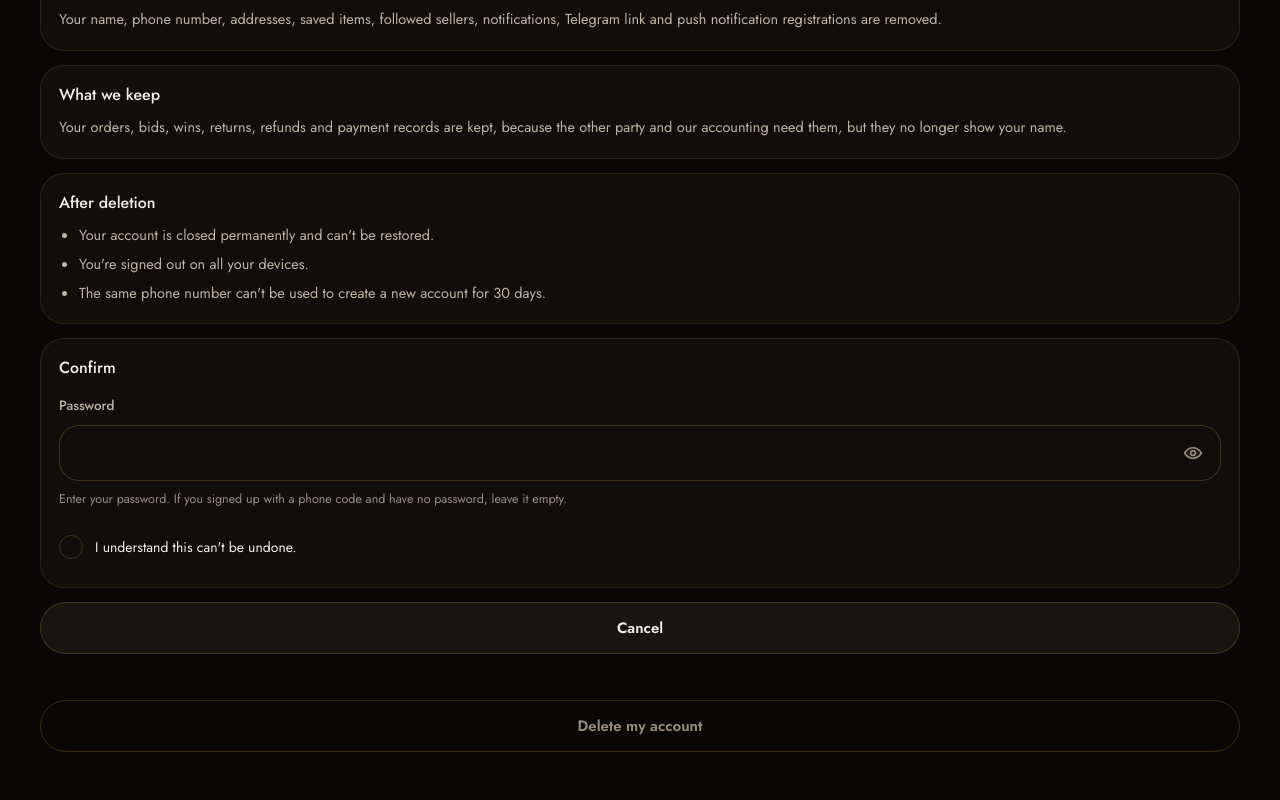
it: Delete account › lists every reason the deletion is blocked, linking to the screens that exist
This screenshot has width=1280, height=800.
(page scrolled)
Expected: the button "Delete my account" is shown, [40, 700, 1240, 752]
Type "secret-pass" into the password field labelled "Password" at (640, 453), box [59, 425, 1221, 481]
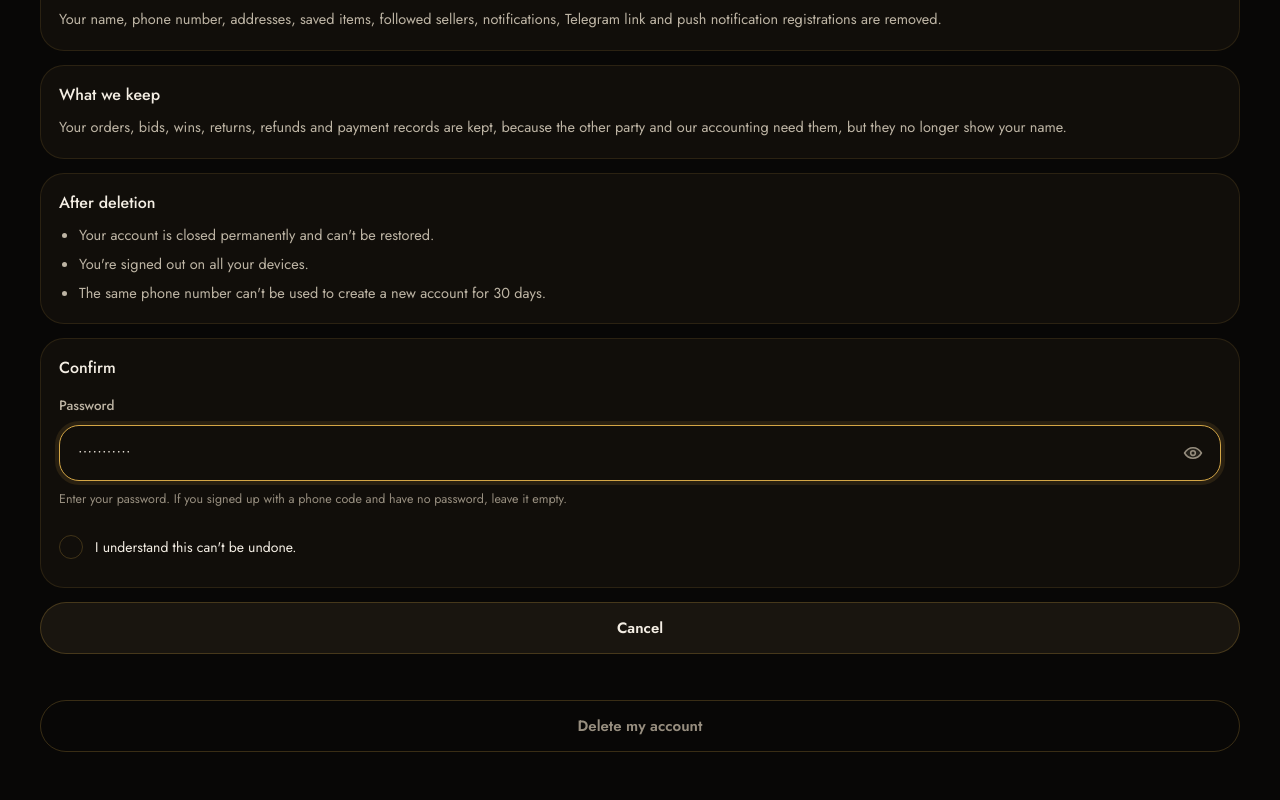
Click the checkbox labelled "I understand this can't be undone." at (178, 547), box [59, 535, 296, 559]
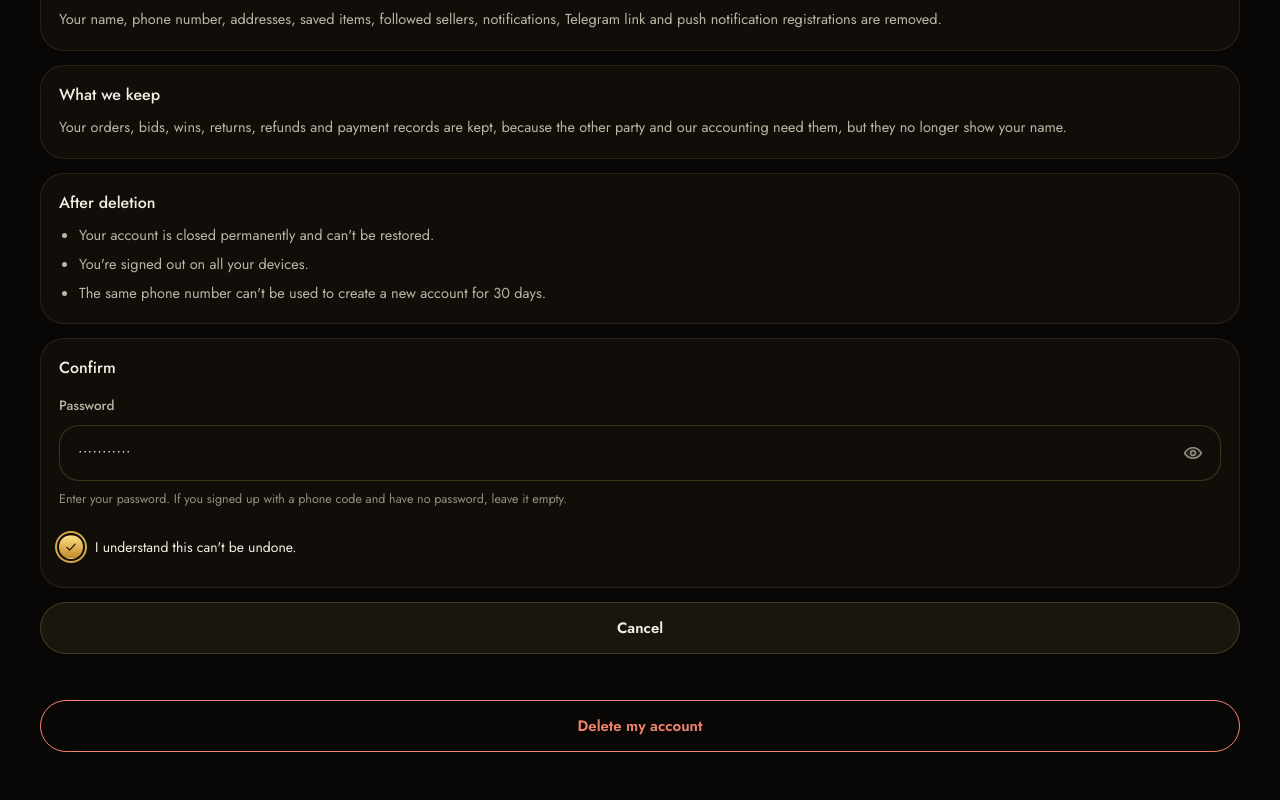
Click the button "Delete my account" at (640, 726), box [40, 700, 1240, 752]
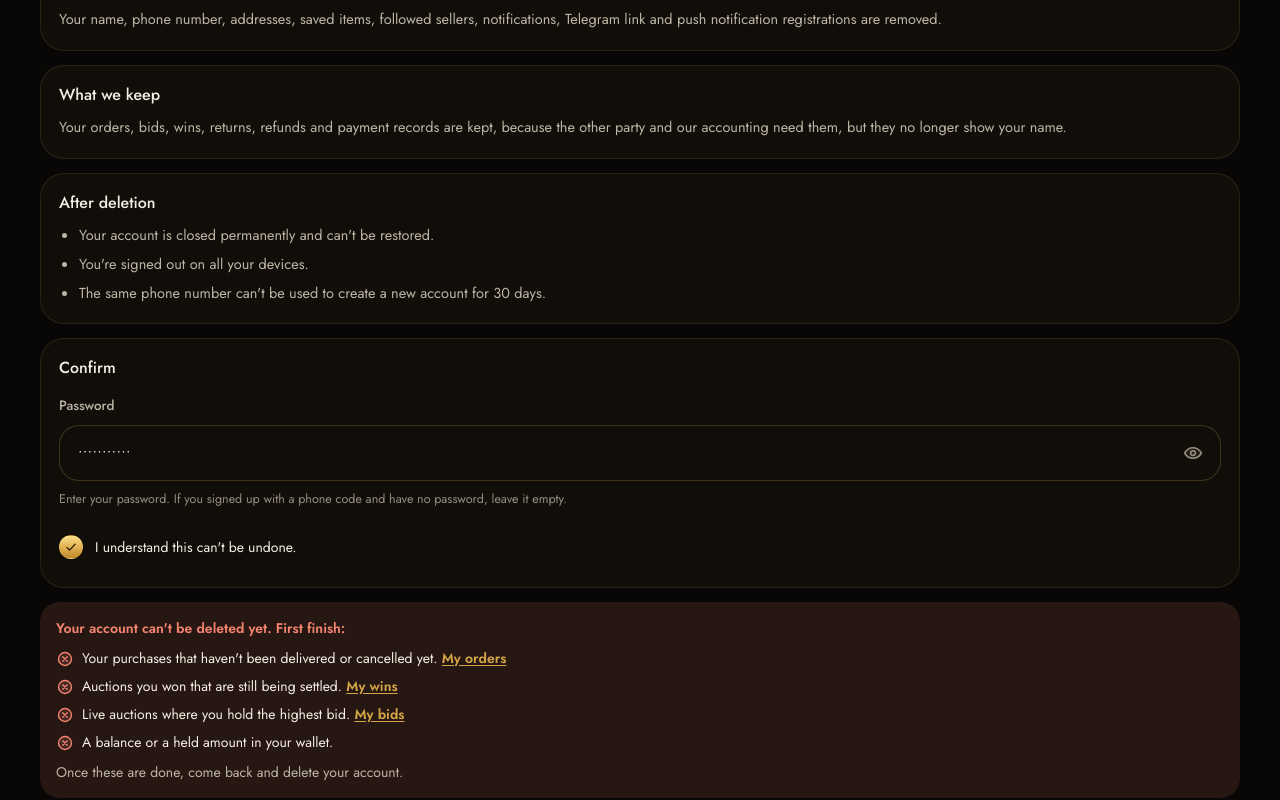
Expected: the list items read "Your purchases that haven't been delivered or cancelled yet. My orders", "Auctions you won that are still being settled. My wins", "Live auctions where you hold the highest bid. My bids", "A balance or a held amount in your wallet.", in this order, [56, 648, 506, 668]; [56, 676, 398, 696]; [56, 704, 404, 724]; [56, 732, 333, 752]
